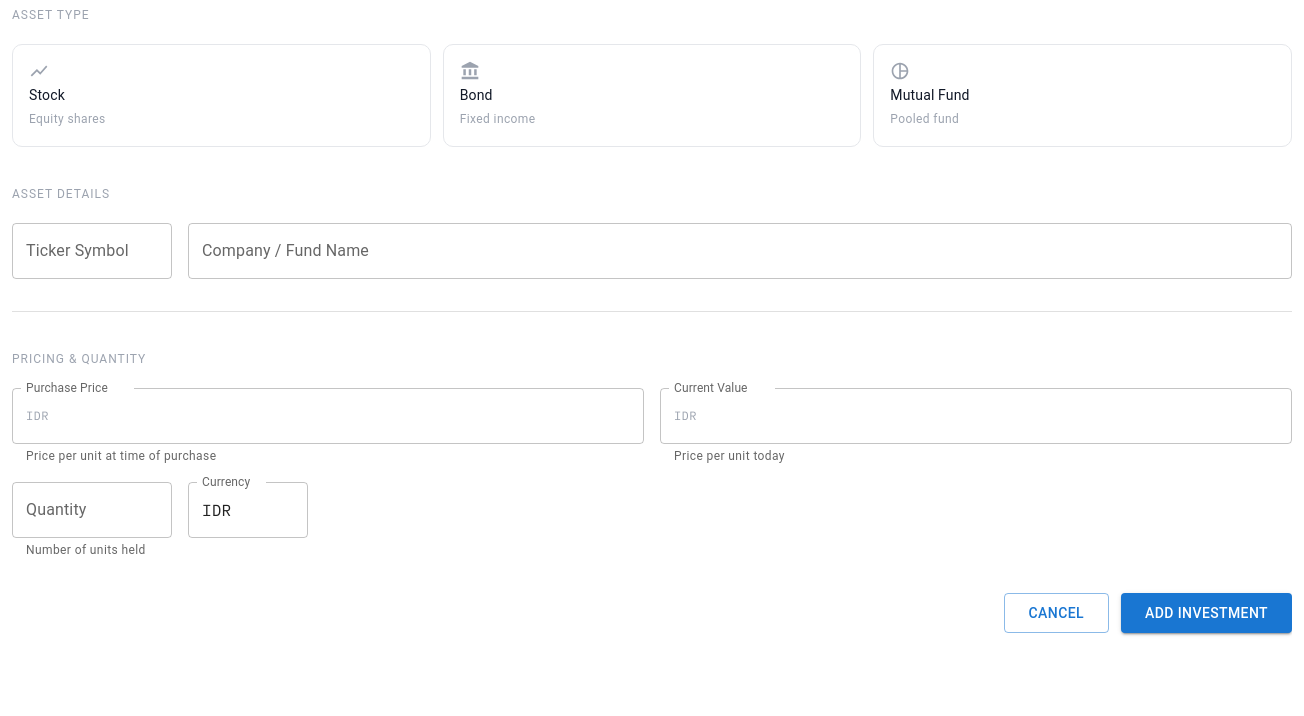
Test: InvestmentForm — add mode › shows the live preview when purchase price, current value and quantity are entered
This screenshot has width=1304, height=716.
Type "1000" into the number field labelled "Purchase Price" at (350, 416), box [57,388,644,444]
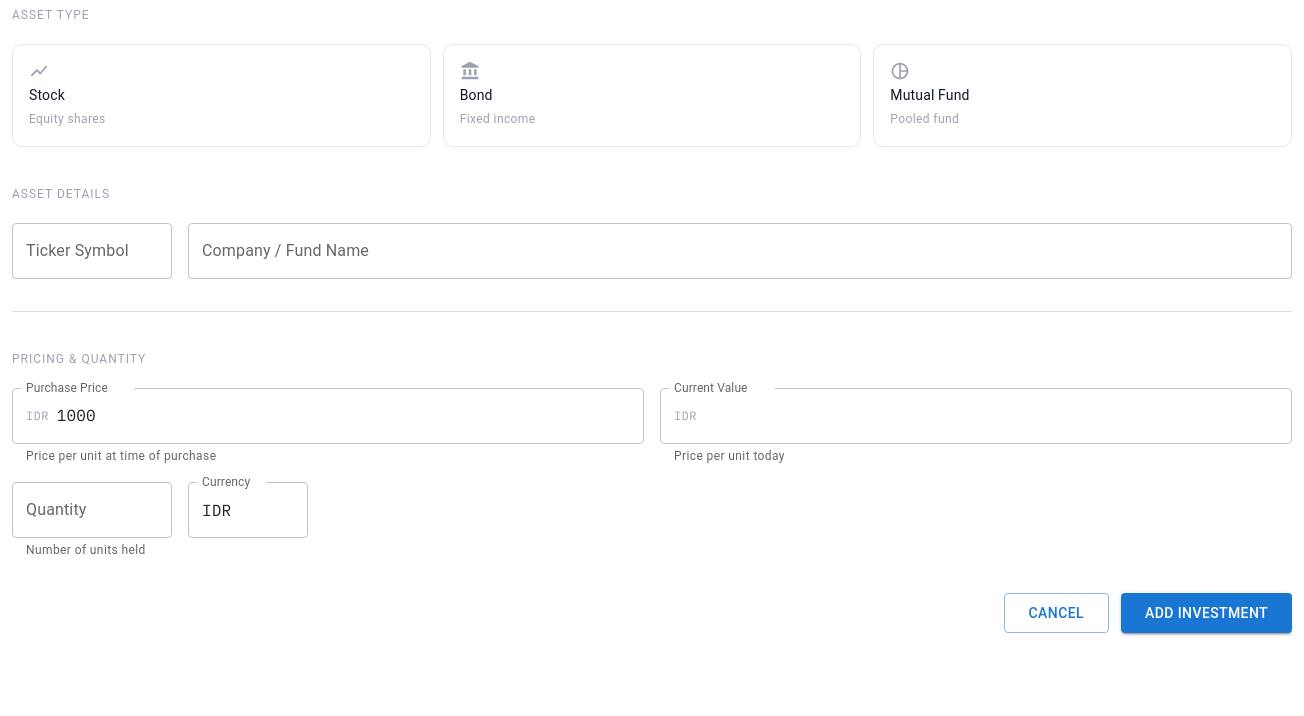
Type "1200" into the number field labelled "Current Value" at (998, 416), box [705,388,1292,444]
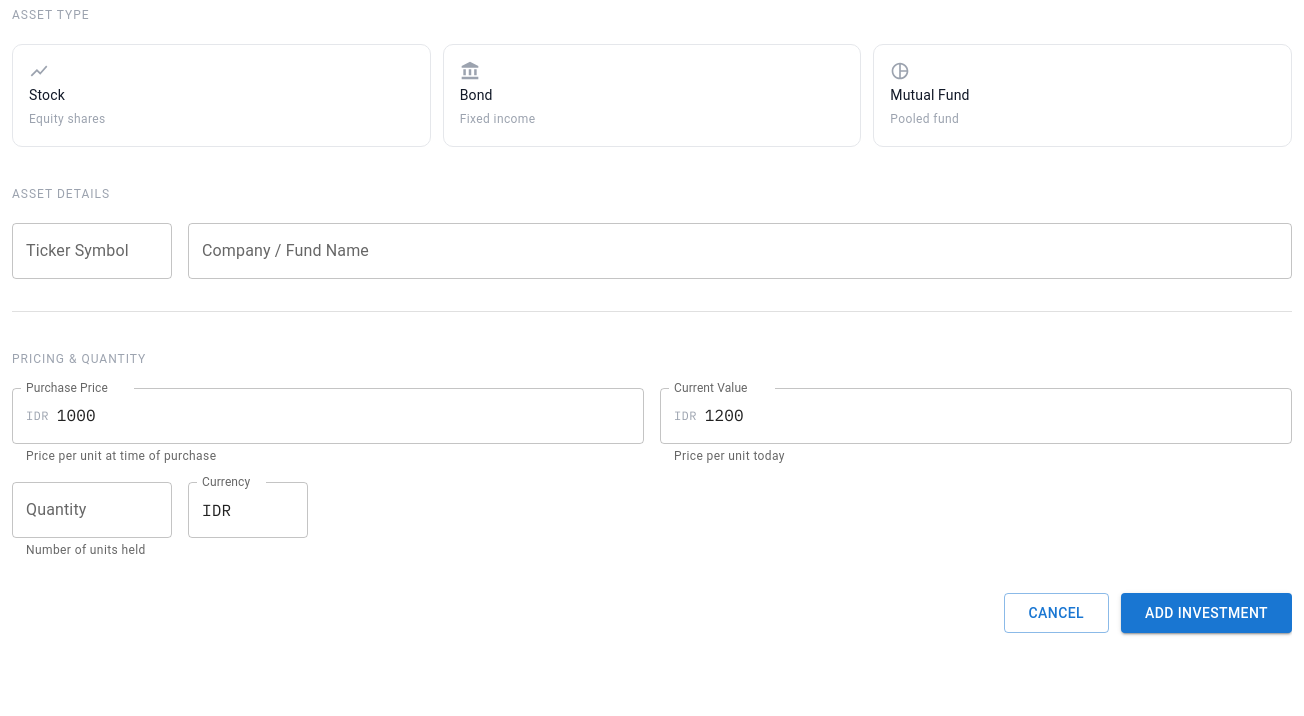
Type "10" into the number field labelled "Quantity" at (92, 510), box [12,482,172,538]
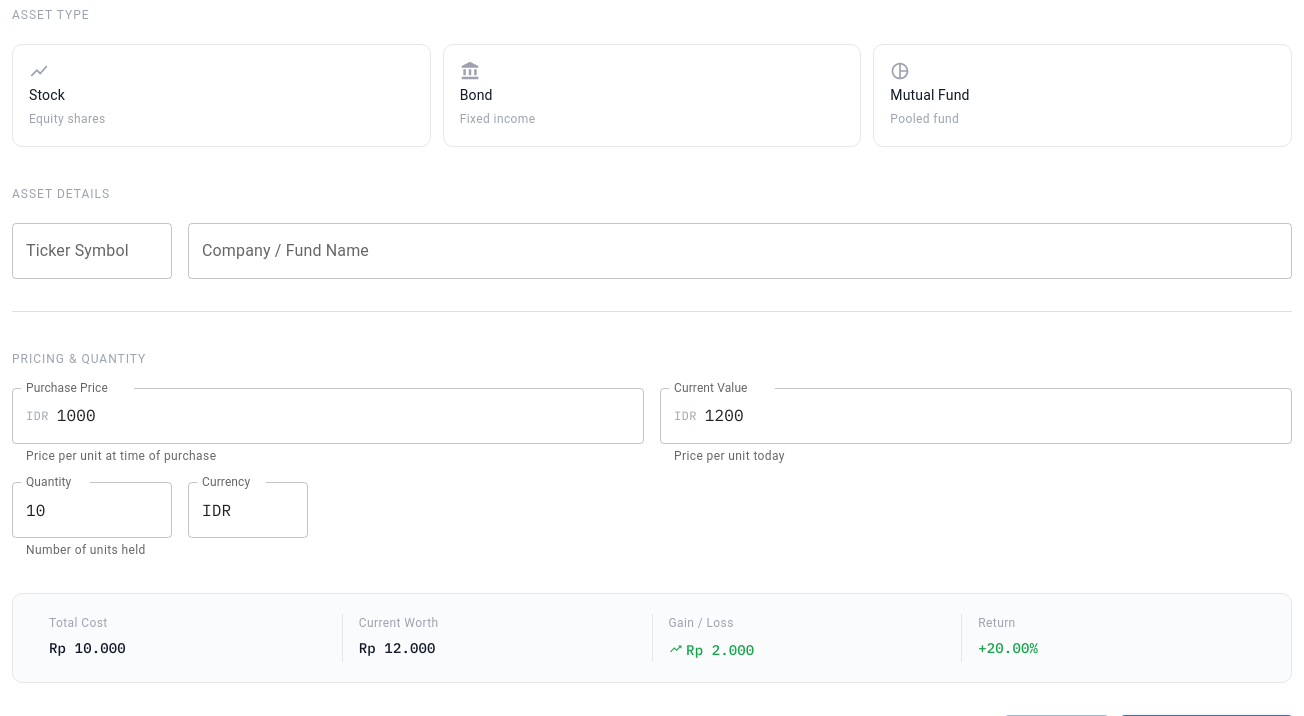
Expected: the text "Total Cost" is shown, [49,616,108,630]
Expected: the text "Gain / Loss" is shown, [668,616,734,630]
